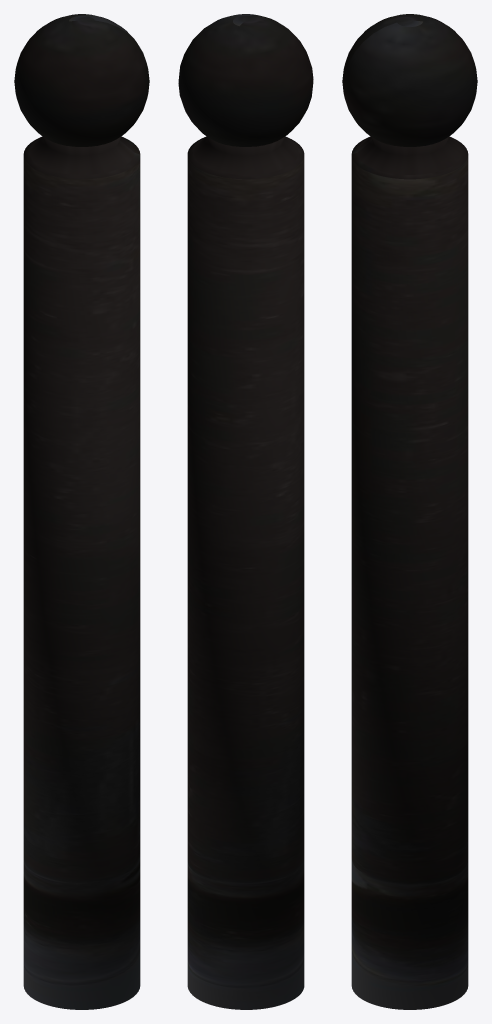
File: Plot.fbx
3 renders of one model, left to right at view 1: azimuth 90°, elevation 25°; view 2: azimuth 150°, elevation 25°; view 3: azimuth 270°, elevation 25°, orthographic.
Parts seen in each view (by area): view 1: Plot; view 2: Plot; view 3: Plot.
Part boxes in pixels (bbox=[...]): Plot: bbox=[14, 14, 149, 1009]; Plot: bbox=[178, 14, 313, 1009]; Plot: bbox=[342, 14, 477, 1009].
Bounding box in the file's own units: 0.1273 × 0.1273 × 1.
1 material, 1 textured.
